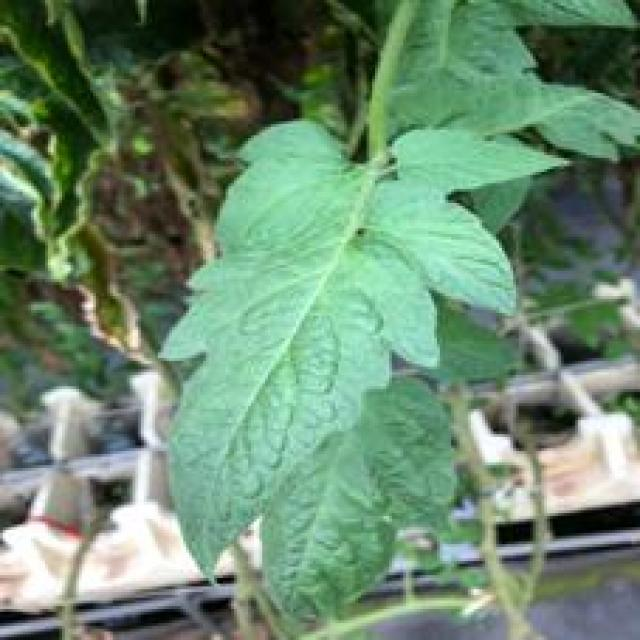Tomato healthy leaf: (161, 121, 555, 575)
